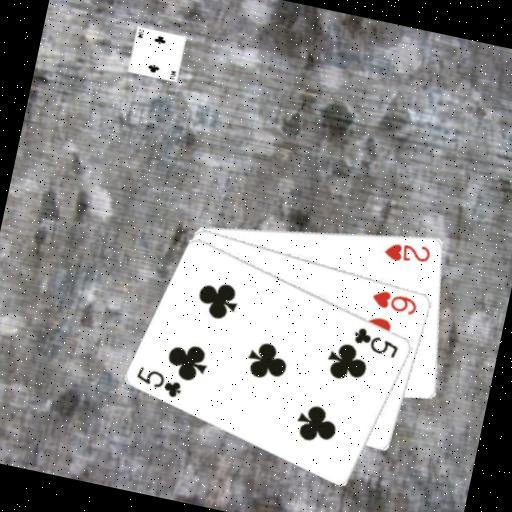2H: (379, 233, 434, 268)
5C: (348, 322, 404, 360), (131, 362, 187, 400)
6H: (367, 284, 421, 317)
